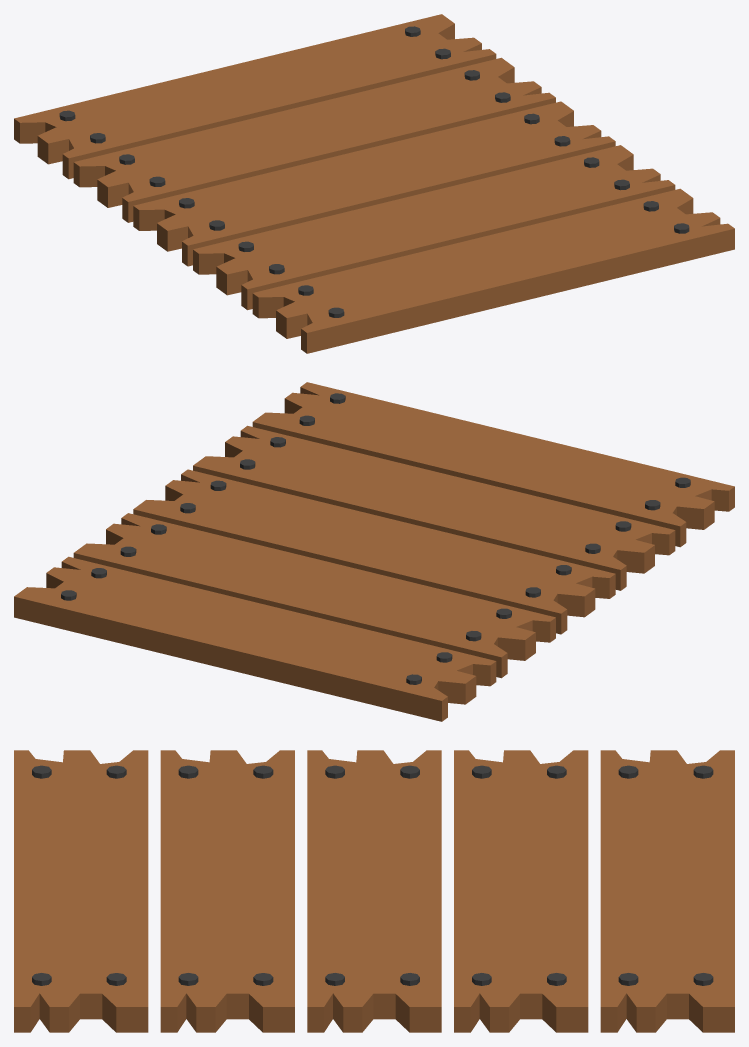
File: bridge.fbx
The picture shows the model from 3 angles, top to bottom: view 1: azimuth 30°, elevation 25°; view 2: azimuth 150°, elevation 25°; view 3: azimuth 270°, elevation 25°; orthographic projection. The views are drawn at different scales.
Visible parts, largest first — view 1: Plane.003; view 2: Plane.003; view 3: Plane.003.
Part boxes in pixels (bbox=[...]): Plane.003: bbox=[14, 14, 734, 353]; Plane.003: bbox=[14, 382, 734, 721]; Plane.003: bbox=[14, 750, 734, 1032].
Bounding box in the file's own units: 0.8184 × 0.0455 × 0.9707.
